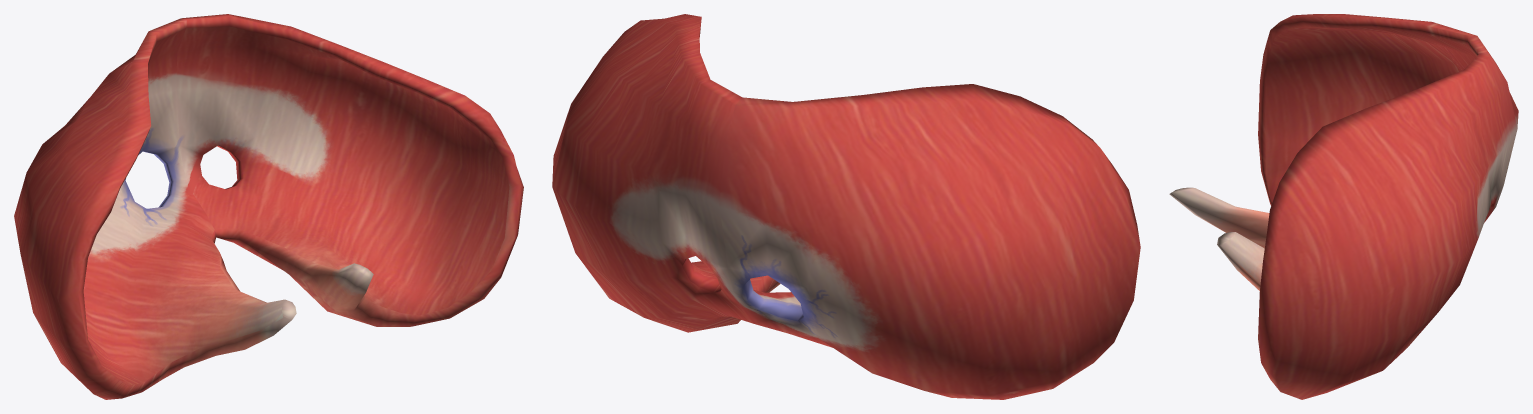
File: Diafragma.fbx
3 views of the same model, side by side, from view 1: azimuth 30°, elevation 25°; view 2: azimuth 150°, elevation 25°; view 3: azimuth 270°, elevation 25° (orthographic). The views are drawn at different scales.
Parts seen in each view (by area): view 1: Cube; view 2: Cube; view 3: Cube.
Boxes of the visible parts, x1,y1,x2,y2 form: Cube: [14, 14, 523, 399]; Cube: [552, 14, 1140, 399]; Cube: [1169, 14, 1518, 399].
Bounding box in the file's own units: 92.77 × 53.2 × 62.01.
